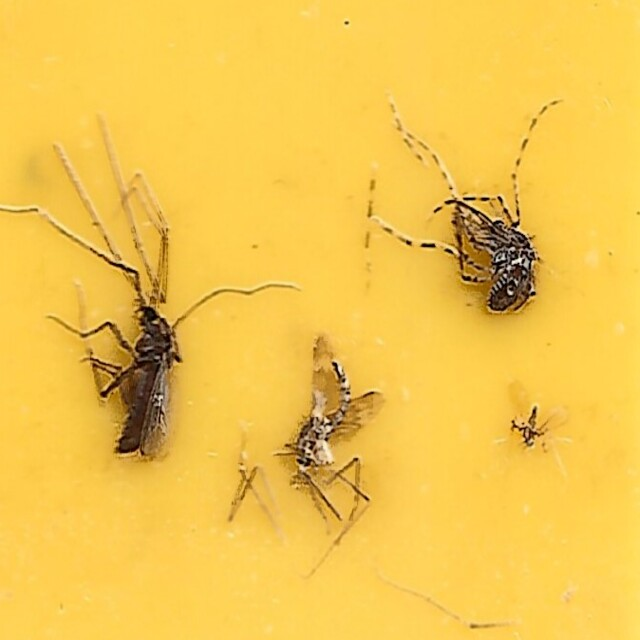Nematocera: (390, 121, 545, 323), (291, 333, 388, 519), (95, 288, 181, 477)
